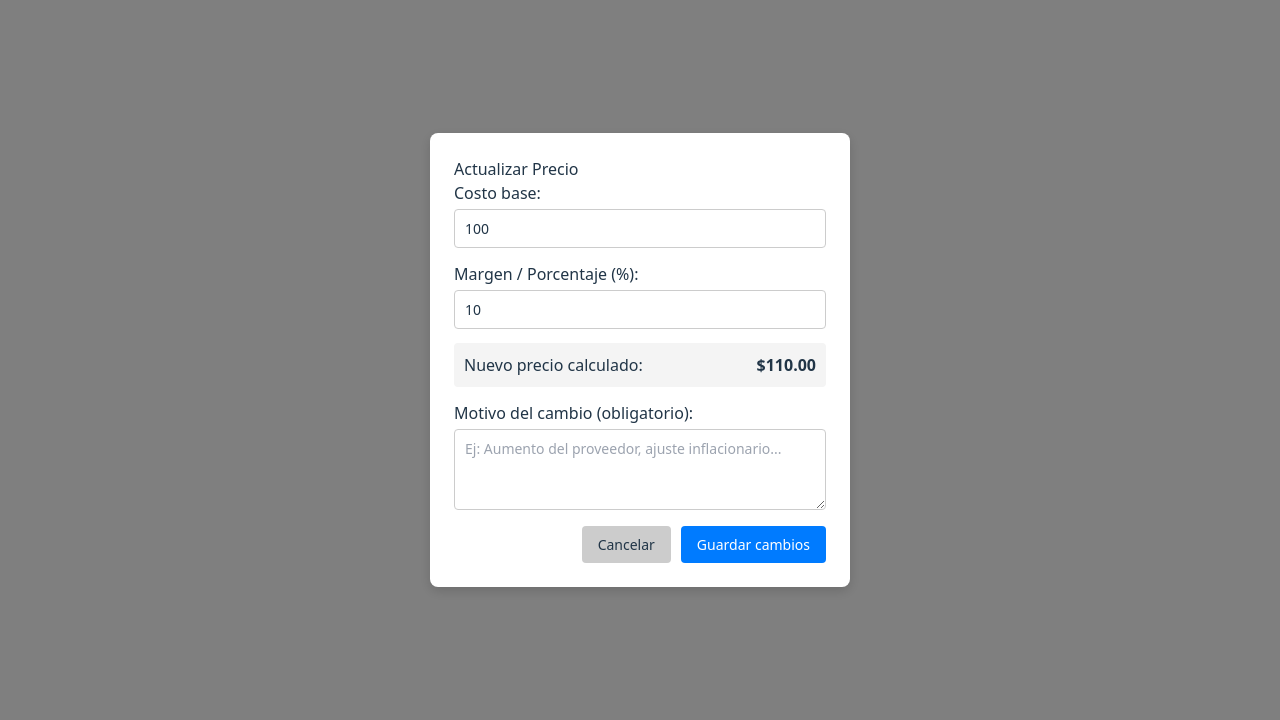
Scenario: ModalCambiarPrecio › muestra el error devuelto por la API y permanece abierto
Type "Ajuste" into the text box labelled "Motivo del cambio (obligatorio):" at (640, 470), box [454,429,826,510]
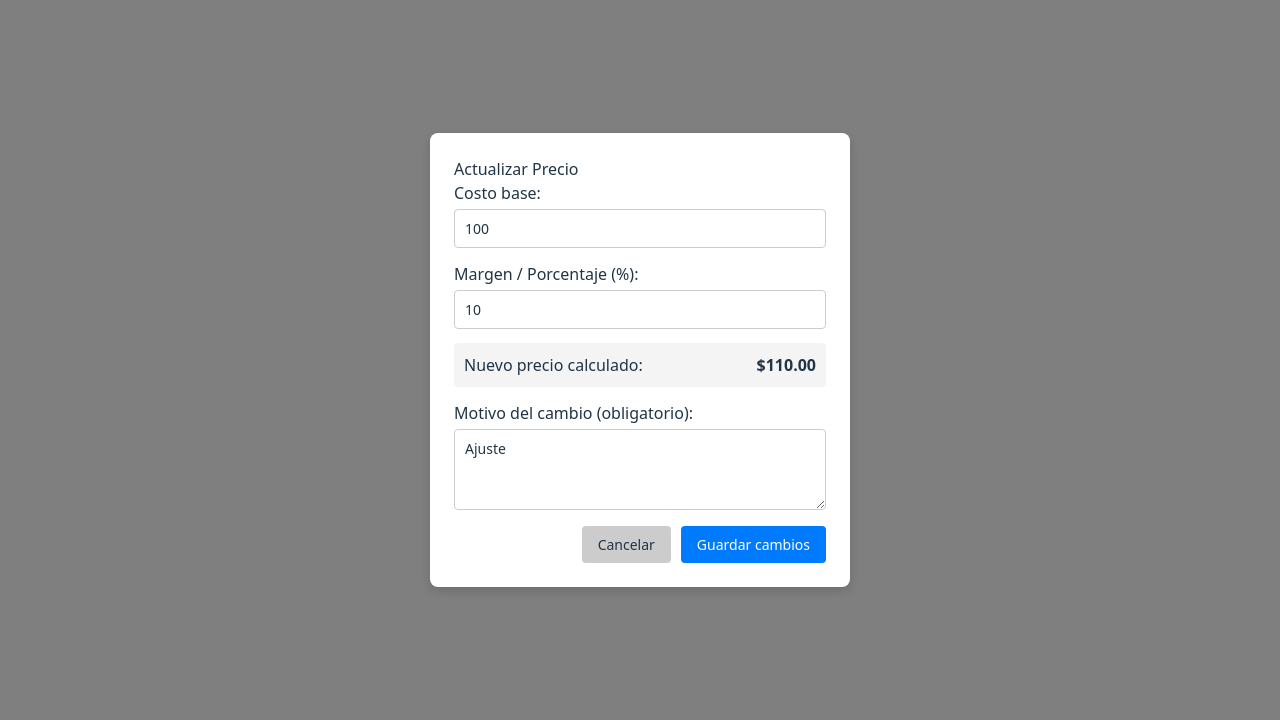
Submit the form named "Guardar cambios", box [454,181,826,563]
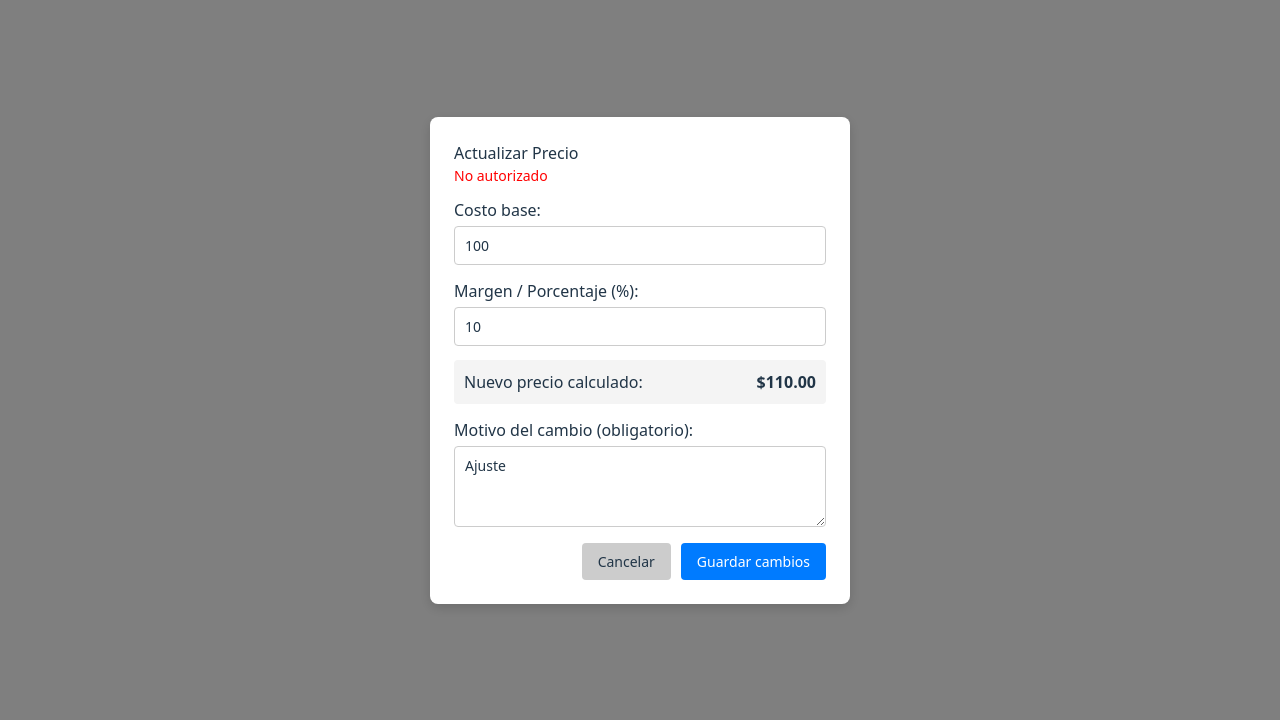
Now the text "No autorizado" is shown, box [454,166,548,184]
